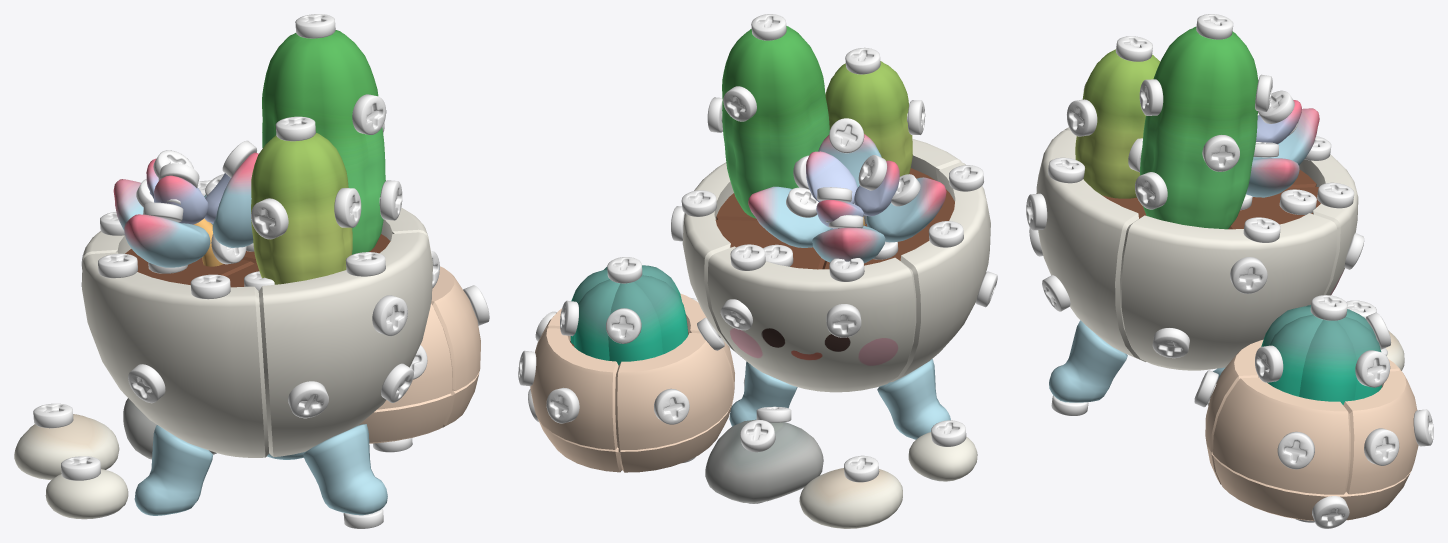
File: Cactus_GroupD.fbx
3 views of the same model, side by side, from view 1: azimuth 30°, elevation 25°; view 2: azimuth 150°, elevation 25°; view 3: azimuth 270°, elevation 25° (orthographic). The views are drawn at different scales.
Parts seen in each view (by area): view 1: Cactus_008, Cactus_009, Screw (×21), Cactus_032, Cactus_001, Cactus_014, Cactus_013, Cactus_017, Cactus_003, Cactus_019, Cactus_018, Cactus_002 (+10 smaller); view 2: Cactus_007, Screw (×24), Cactus_032, Cactus_005, Cactus_008, Cactus_012, Cactus_004, Cactus_016, Cactus_001, Cactus_017, Cactus_010, Cactus_013 (+16 smaller); view 3: Cactus_010, Screw (×26), Cactus_032, Cactus_009, Cactus_003, Cactus_012, Cactus_001, Cactus_004, Cactus_026, Cactus_014, Cactus_007, Cactus_002 (+4 smaller).
Boxes of the visible parts, x1,y1,x2,y2 form: Cactus_008: [82, 252, 269, 457]; Cactus_009: [258, 232, 432, 457]; Screw (×21): [33, 14, 489, 528]; Cactus_032: [262, 30, 385, 254]; Cactus_001: [251, 133, 352, 284]; Cactus_014: [303, 424, 387, 515]; Cactus_013: [134, 425, 213, 515]; Cactus_017: [14, 414, 119, 479]; Cactus_003: [431, 266, 480, 390]; Cactus_019: [124, 214, 210, 267]; Cactus_018: [45, 469, 128, 519]; Cactus_002: [377, 304, 452, 409]; Cactus_007: [707, 246, 916, 392]; Screw (×24): [518, 14, 983, 482]; Cactus_032: [722, 26, 829, 218]; Cactus_005: [615, 333, 733, 450]; Cactus_008: [890, 162, 990, 382]; Cactus_012: [570, 265, 688, 365]; Cactus_004: [530, 328, 618, 449]; Cactus_016: [705, 419, 823, 503]; Cactus_001: [825, 61, 912, 176]; Cactus_017: [799, 468, 902, 528]; Cactus_010: [682, 162, 746, 361]; Cactus_013: [877, 359, 950, 439]; Cactus_010: [1120, 213, 1337, 370]; Screw (×26): [1026, 14, 1433, 528]; Cactus_032: [1140, 26, 1258, 229]; Cactus_009: [1036, 130, 1145, 361]; Cactus_003: [1213, 377, 1350, 494]; Cactus_012: [1261, 305, 1381, 404]; Cactus_001: [1075, 49, 1160, 198]; Cactus_004: [1343, 371, 1418, 494]; Cactus_026: [1213, 456, 1410, 520]; Cactus_014: [1049, 320, 1127, 402]; Cactus_007: [1299, 154, 1358, 295]; Cactus_002: [1205, 339, 1263, 452].
Bounding box in the file's own units: 9.41 × 9.3 × 7.83.
3 materials, 2 textured.
